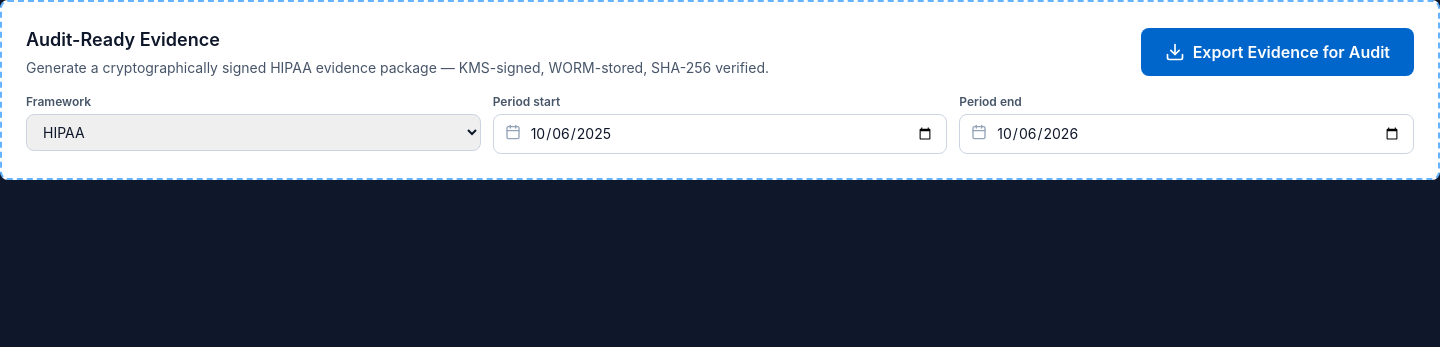
ExportEvidence › shows success state and sha256 when package is immediately complete
Click the button "Export Evidence for Audit" at [1277, 52], box [1141, 28, 1414, 76]
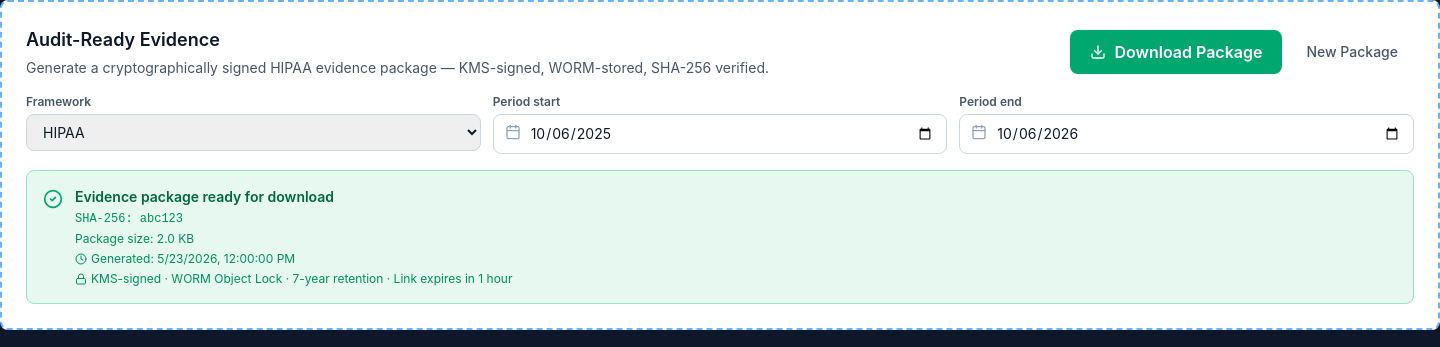
Expected: the button "Download Package" is shown, [1070, 30, 1282, 74]
Expected: the text "SHA-256: abc123" is shown, [75, 212, 183, 226]
Expected: the text "Package size: 2.0 KB" is shown, [75, 231, 194, 246]
